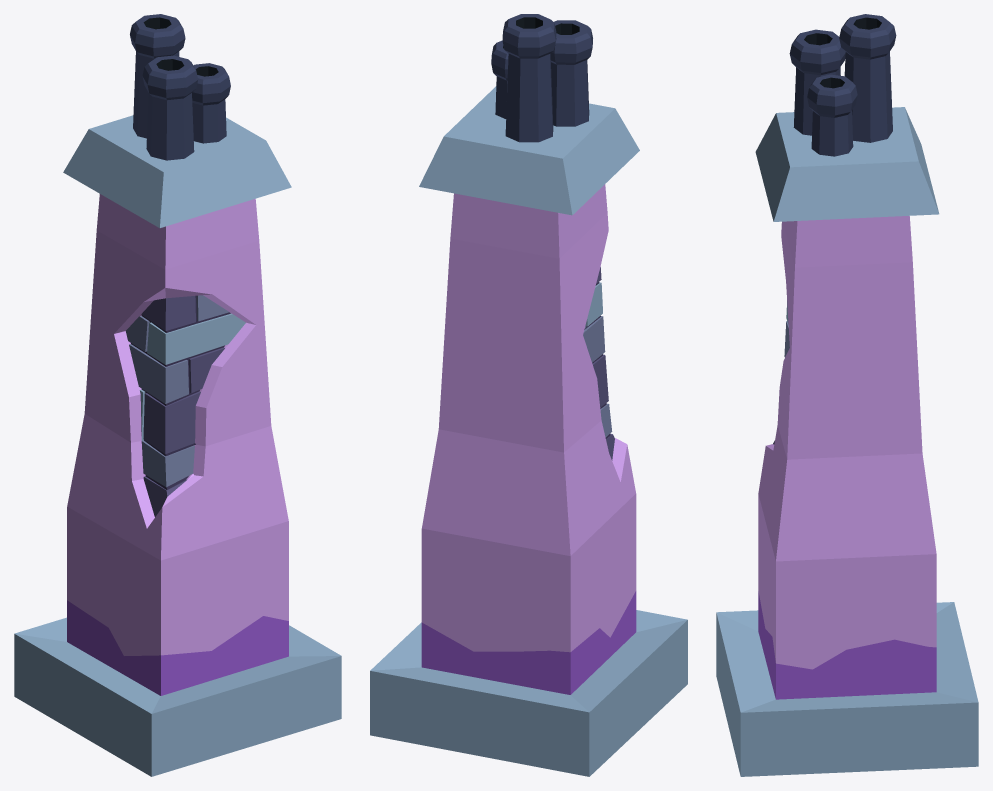
The model's file is Chimney 06.fbx.
3 views of the same model, side by side, from view 1: azimuth 30°, elevation 25°; view 2: azimuth 150°, elevation 25°; view 3: azimuth 270°, elevation 25° (orthographic). The views are drawn at different scales.
Visible parts, largest first — view 1: Chimney 06; view 2: Chimney 06; view 3: Chimney 06.
Boxes of the visible parts, box(x1,y1,x2,y2) form: Chimney 06: box(14, 14, 341, 776); Chimney 06: box(370, 14, 687, 776); Chimney 06: box(716, 14, 978, 776).
Bounding box in the file's own units: 139 × 408 × 139.
